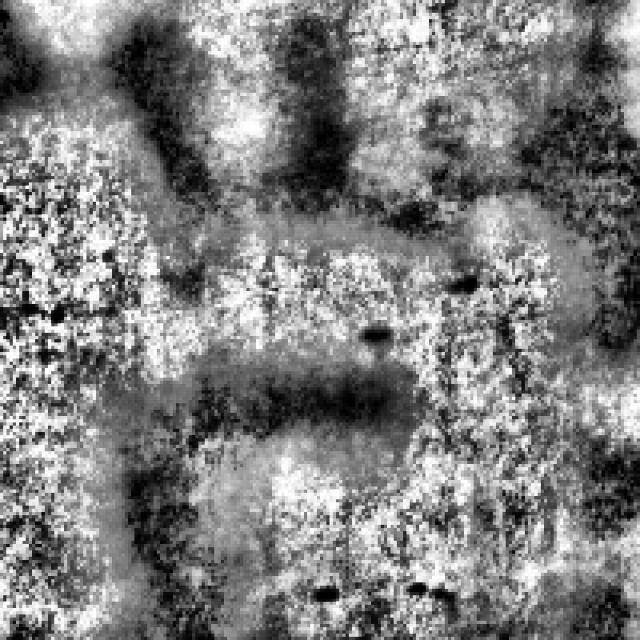Scratches: (109, 358, 397, 637), (496, 0, 630, 365), (246, 22, 464, 228), (90, 13, 220, 221), (550, 547, 637, 637), (0, 0, 58, 112)
